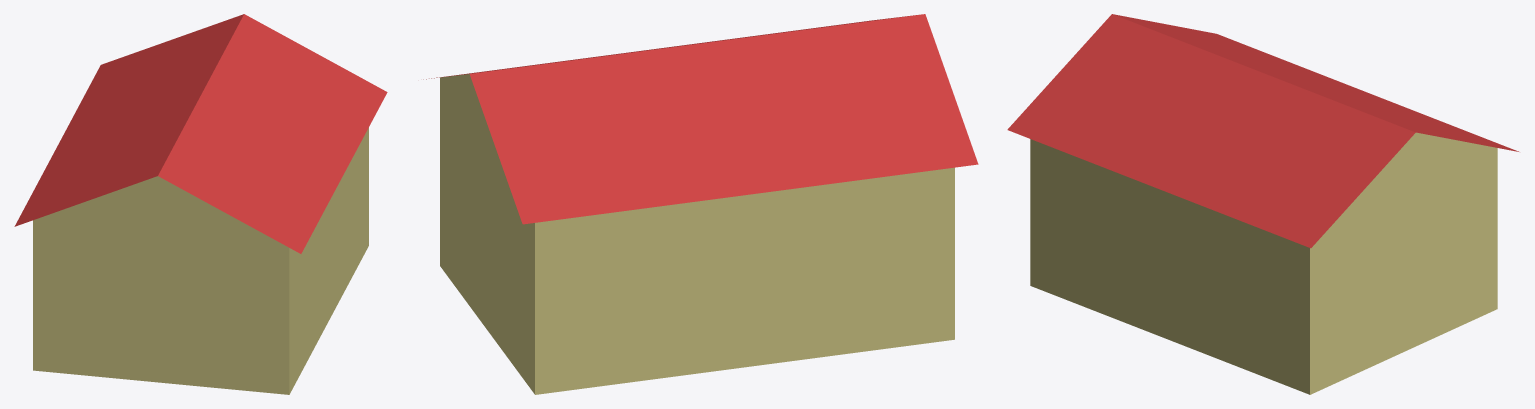
The picture shows the model from 3 angles, left to right: view 1: azimuth 30°, elevation 25°; view 2: azimuth 150°, elevation 25°; view 3: azimuth 270°, elevation 25°; orthographic projection. The views are drawn at different scales.
Size of the model in its own units: 15.5 by 15.68 by 7.55.
